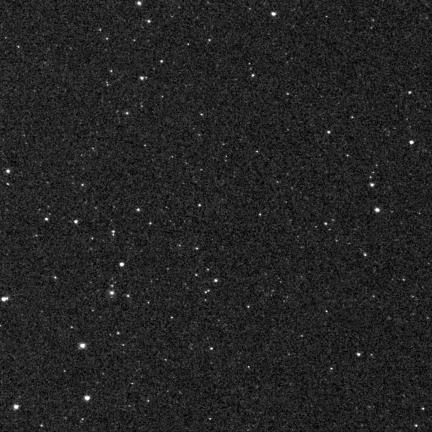blob: (2, 297, 9, 303), (84, 395, 91, 401), (375, 208, 381, 213), (271, 12, 276, 16), (120, 262, 124, 267), (370, 183, 374, 187), (410, 141, 413, 144)
